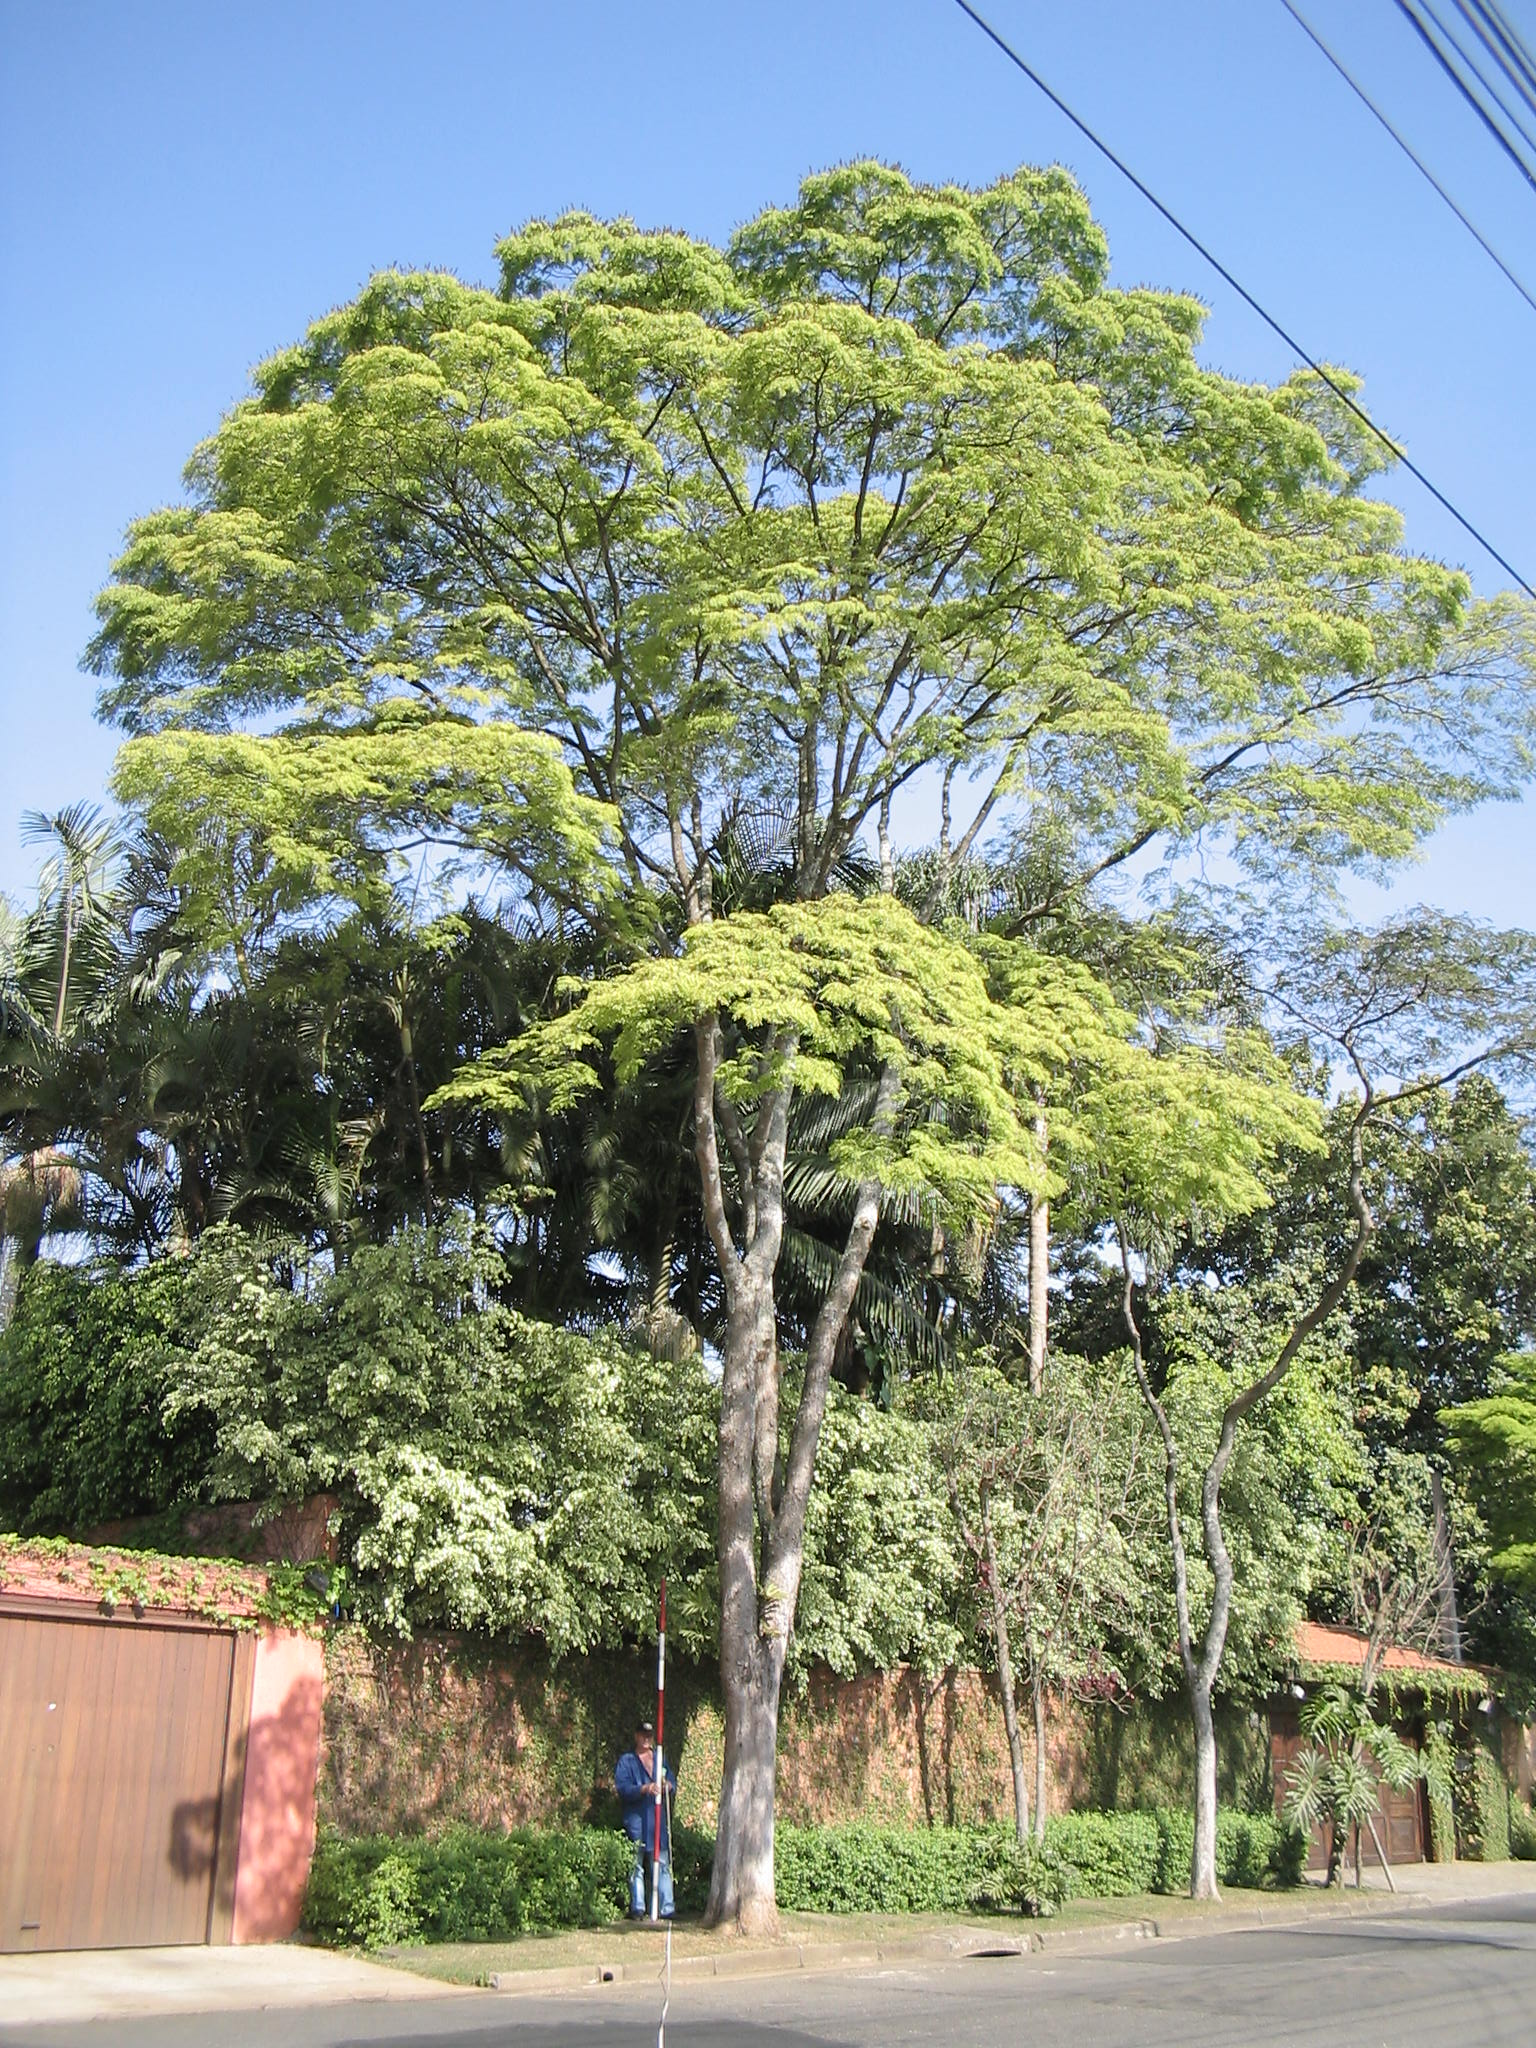crown: (98, 155, 1504, 1276)
stem: (682, 1642, 820, 1932)
stick: (624, 1582, 694, 1922)
tree: (90, 153, 1515, 1934)
